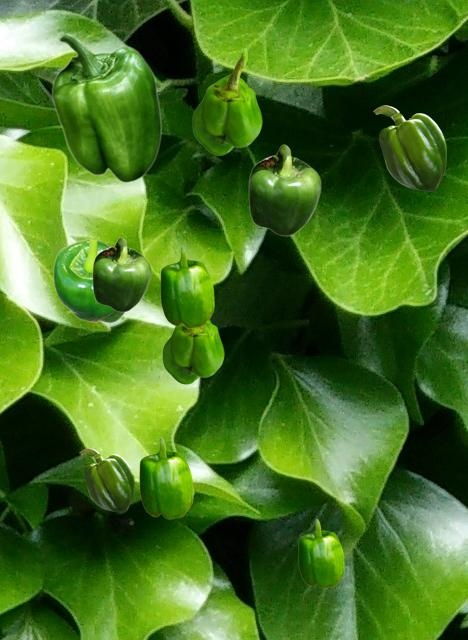bell_pepper: (51, 33, 161, 182), (192, 48, 261, 154), (248, 144, 320, 235), (52, 238, 125, 322), (373, 105, 445, 190), (160, 246, 213, 327), (139, 437, 192, 518), (92, 237, 150, 311), (162, 320, 223, 383), (79, 448, 133, 511), (298, 519, 343, 587)
